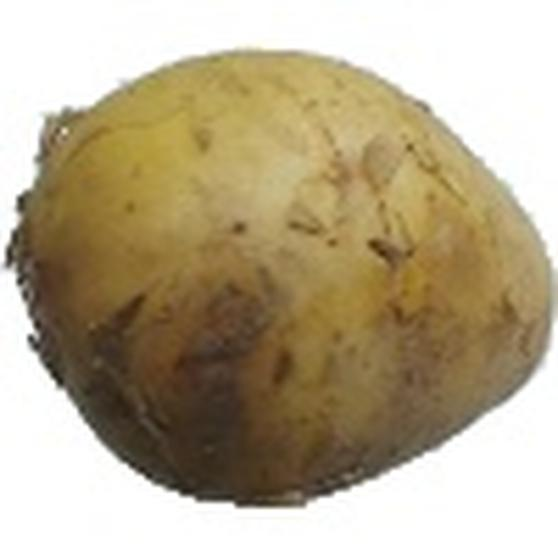potato: (17, 45, 554, 508)
